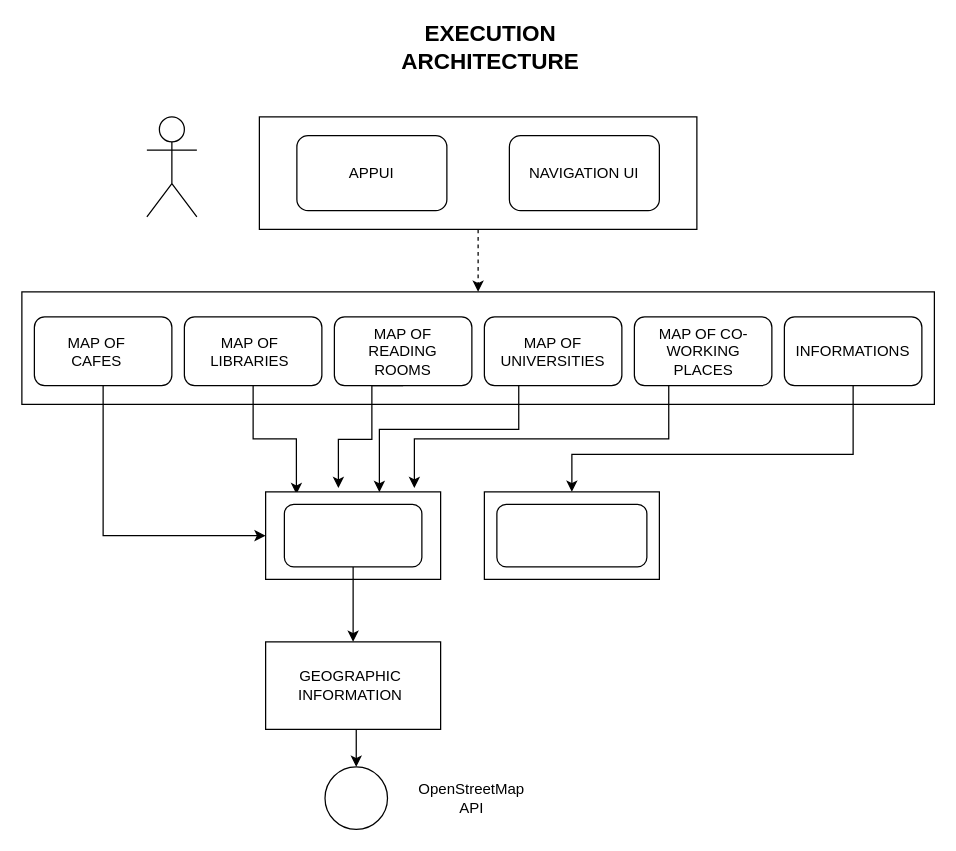
Image size: 956x851. Some labels were removed from this diagram. The centre of each missing label's shape, as x and y in pixels:
DATABASE: the point at 352,535
SHOW INFORMATIONS: the point at 571,535
USER: the point at 171,166
